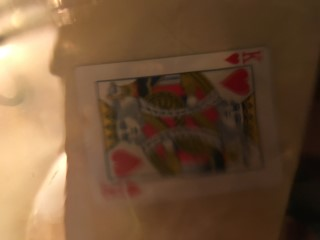KingOfHearts: (76, 48, 284, 208)
